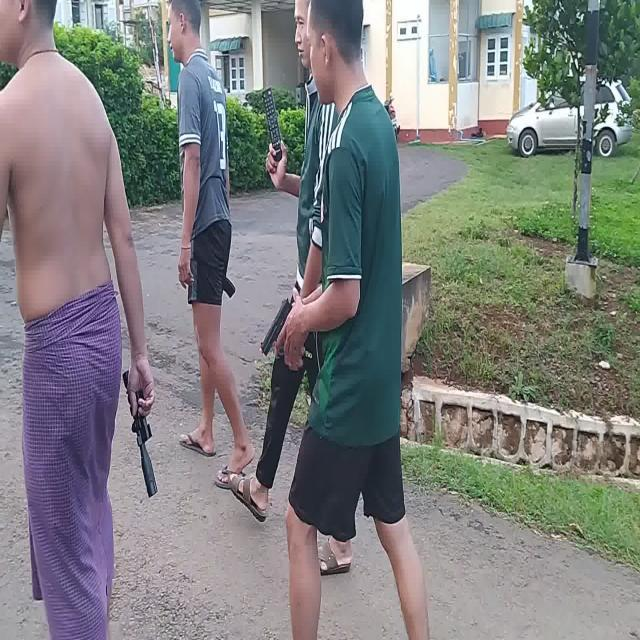gun: (259, 302, 293, 355)
